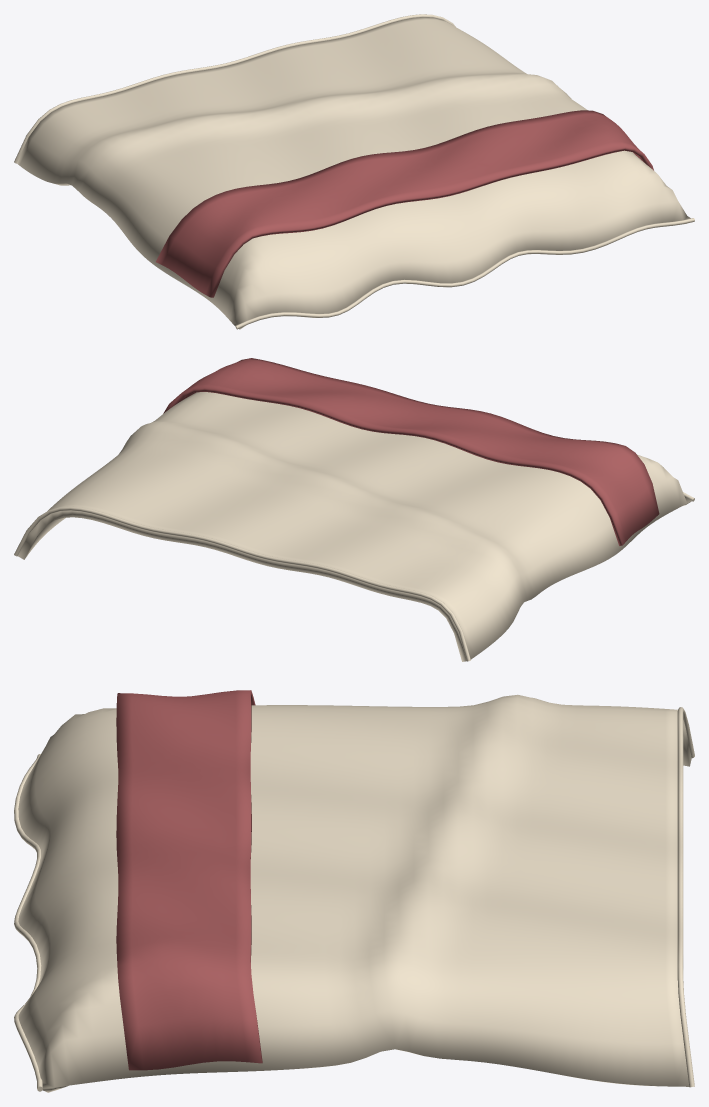
The model's file is HotelH03_H06StyleBedding.fbx.
The picture shows the model from 3 angles, top to bottom: view 1: azimuth 30°, elevation 25°; view 2: azimuth 150°, elevation 25°; view 3: azimuth 270°, elevation 25°; orthographic projection. The views are drawn at different scales.
Parts seen in each view (by area): view 1: Matched H06 | Lofted duvet with draped foot and side hems, Matched H06 | Folded slate bed runner, Matched H06 | Duvet bound hem.001, Matched H06 | Duvet bound hem; view 2: Matched H06 | Lofted duvet with draped foot and side hems, Matched H06 | Folded slate bed runner, Matched H06 | Duvet bound hem; view 3: Matched H06 | Lofted duvet with draped foot and side hems, Matched H06 | Folded slate bed runner, Matched H06 | Duvet bound hem, Matched H06 | Duvet bound hem.001.
Boxes of the visible parts, x1=… form: Matched H06 | Lofted duvet with draped foot and side hems: x1=16, y1=17, x2=690, y2=329; Matched H06 | Folded slate bed runner: x1=156, y1=110, x2=653, y2=297; Matched H06 | Duvet bound hem.001: x1=235, y1=218, x2=694, y2=329; Matched H06 | Duvet bound hem: x1=14, y1=14, x2=455, y2=163; Matched H06 | Lofted duvet with draped foot and side hems: x1=18, y1=392, x2=692, y2=661; Matched H06 | Folded slate bed runner: x1=163, y1=358, x2=659, y2=545; Matched H06 | Duvet bound hem: x1=14, y1=506, x2=470, y2=661; Matched H06 | Lofted duvet with draped foot and side hems: x1=18, y1=694, x2=691, y2=1092; Matched H06 | Folded slate bed runner: x1=116, y1=690, x2=262, y2=1070; Matched H06 | Duvet bound hem: x1=677, y1=707, x2=694, y2=1087; Matched H06 | Duvet bound hem.001: x1=14, y1=754, x2=42, y2=1091.
Size of the model in its own units: 2.14 by 0.3483 by 1.85.
